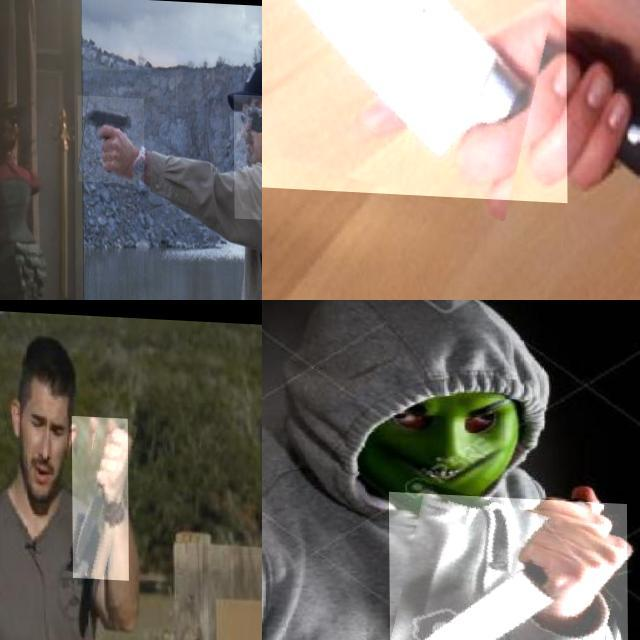-: (262, 0, 566, 212), (389, 488, 628, 640), (72, 412, 129, 576)
gun-knife-thesis - v11 Yolov5 augmented: (78, 92, 144, 180), (0, 153, 27, 293), (233, 89, 262, 216)
